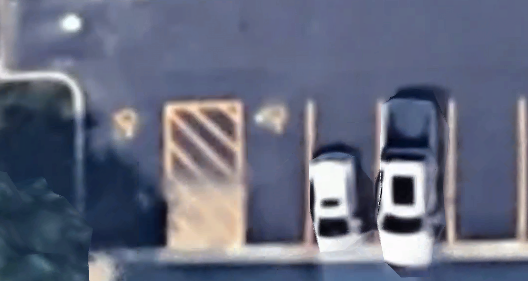Occupied: (380, 101, 452, 244), (310, 101, 380, 246)
Vacant: (82, 104, 168, 248), (451, 102, 523, 242), (241, 101, 310, 245)
